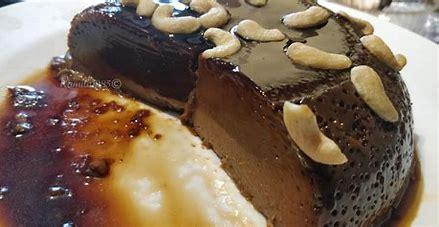Watalappam: (63, 0, 418, 214)
